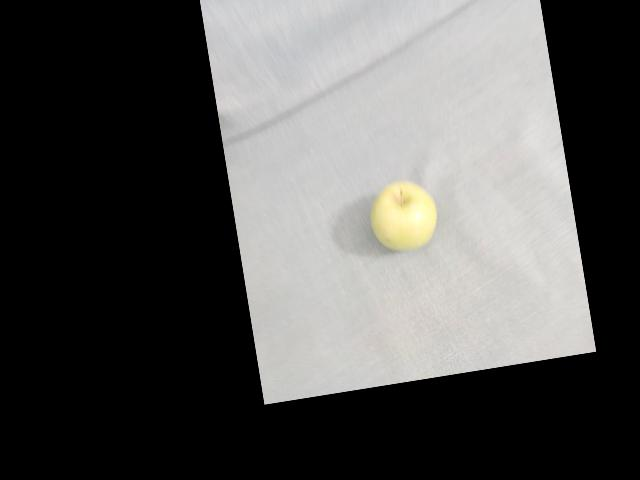apple: (370, 176, 428, 241)
